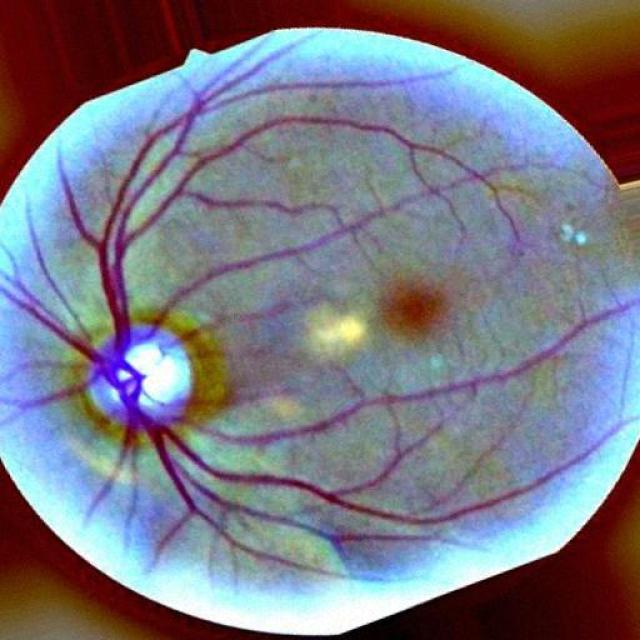Macula: (377, 279, 443, 342)
Nerves: (104, 74, 461, 389), (128, 389, 576, 577), (175, 379, 320, 405)
Optic Disk: (83, 327, 193, 439)
